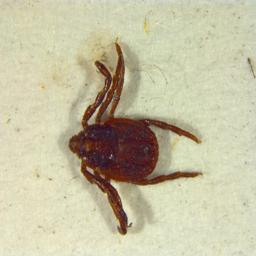Rhipicephalus sanguineus: (68, 41, 203, 235)
